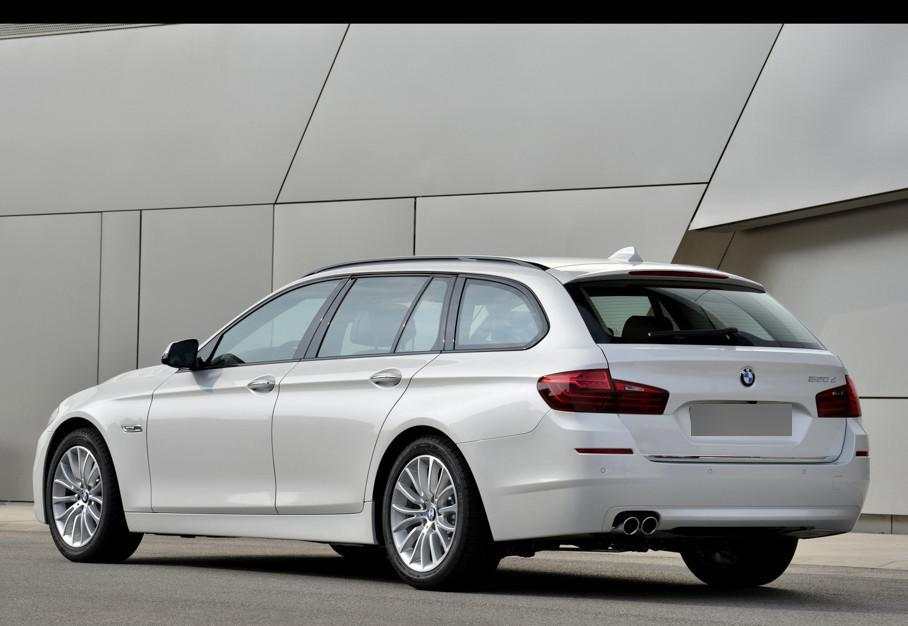Wagon: (30, 244, 871, 591)
